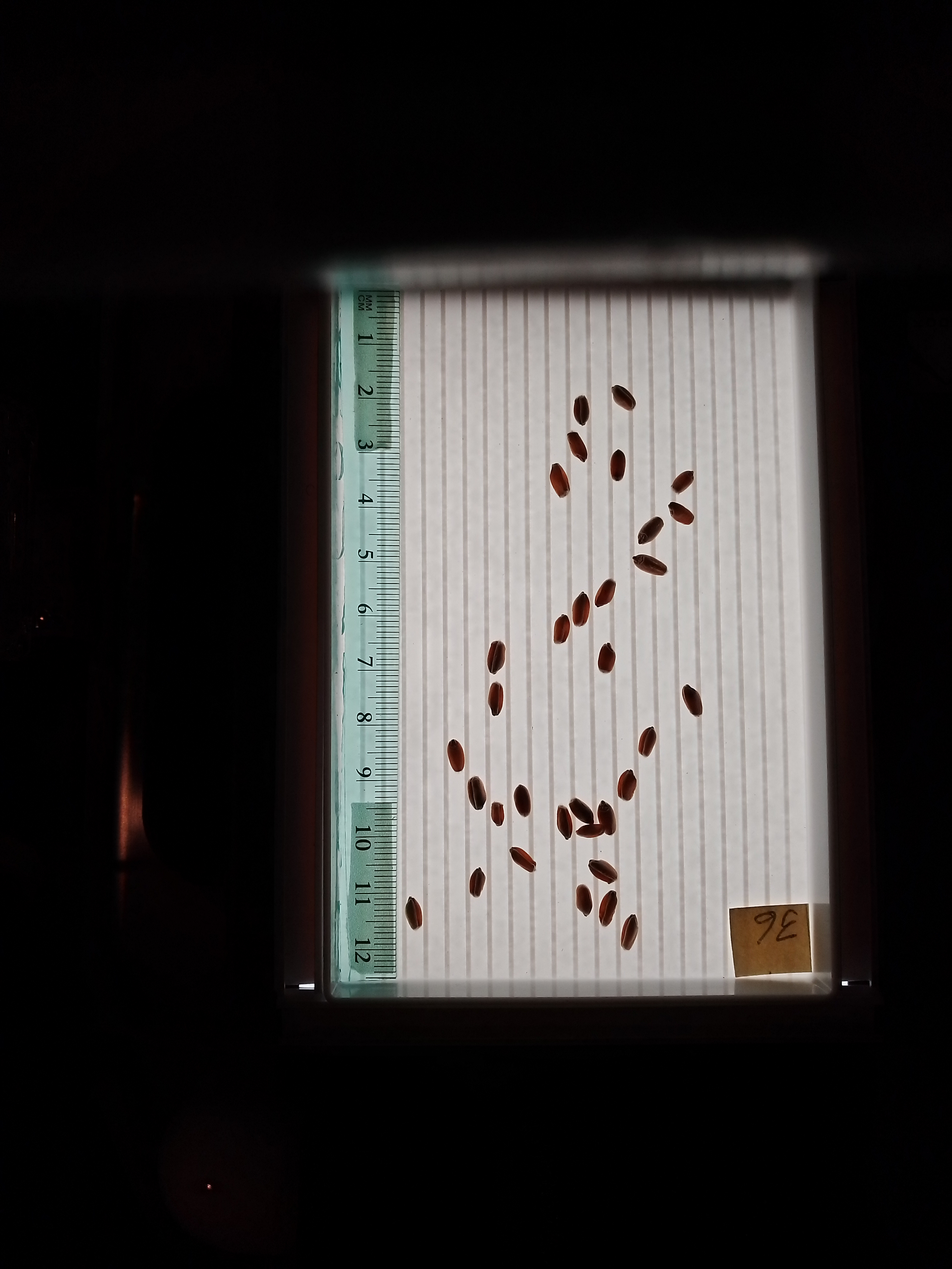seed mask: (633, 555, 666, 575), (639, 517, 663, 544), (621, 914, 639, 950), (589, 860, 617, 883), (572, 594, 591, 627), (570, 798, 594, 824), (468, 776, 486, 810), (599, 892, 617, 926), (550, 464, 569, 496), (597, 803, 616, 835), (612, 386, 636, 411), (683, 686, 703, 716), (487, 641, 505, 674), (618, 770, 637, 801), (567, 432, 587, 461), (447, 740, 465, 772), (511, 848, 535, 872), (595, 580, 616, 607), (406, 898, 423, 930), (669, 503, 693, 525), (576, 884, 593, 915), (488, 683, 504, 715), (557, 806, 573, 838), (514, 786, 531, 816), (610, 450, 626, 481), (598, 644, 615, 673), (573, 397, 590, 425), (553, 616, 570, 644), (639, 728, 656, 756), (672, 471, 693, 493), (470, 869, 485, 897), (578, 822, 604, 838), (491, 802, 505, 825)
